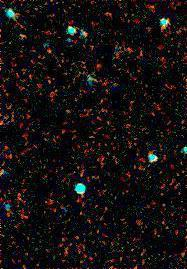star: (34, 35, 64, 65)
